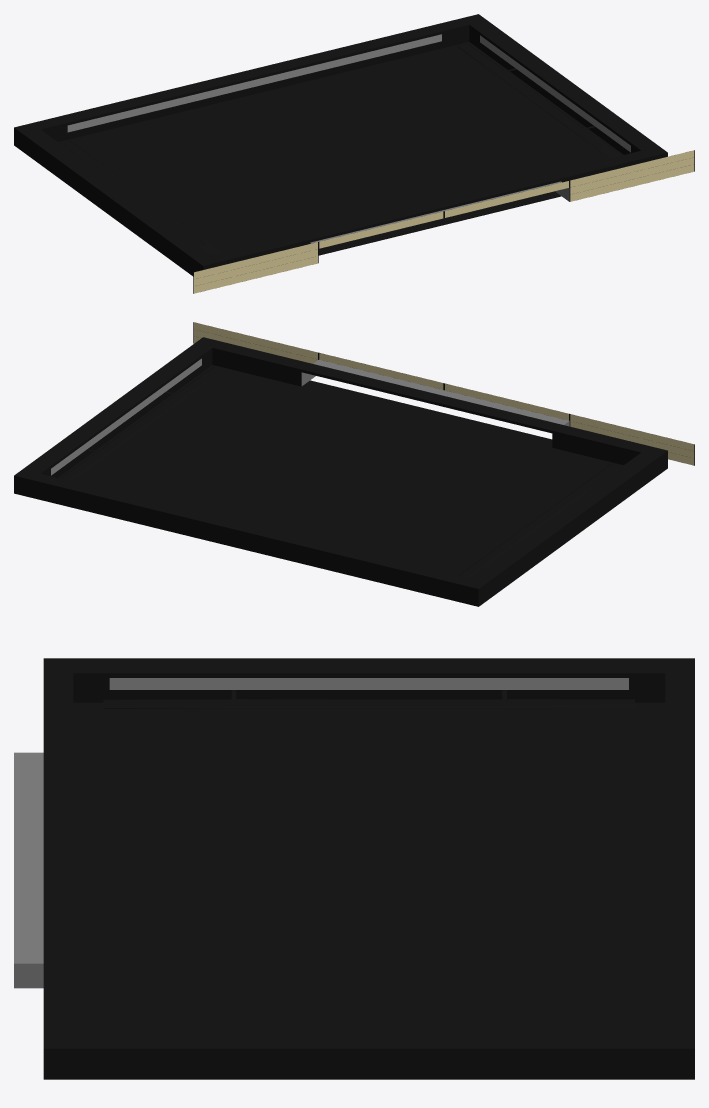
File: Elevator 1.fbx
3 renders of one model, top to bottom at view 1: azimuth 30°, elevation 25°; view 2: azimuth 150°, elevation 25°; view 3: azimuth 270°, elevation 25°, orthographic. The views are drawn at different scales.
Parts seen in each view (by area): view 1: Cube.003; view 2: Cube.003; view 3: Cube.003.
Boxes of the visible parts, x1,y1,x2,y2 form: Cube.003: [14, 14, 694, 293]; Cube.003: [14, 322, 694, 606]; Cube.003: [14, 658, 694, 1079].
Size of the model in its own units: 39324 by 1664 by 26855.
